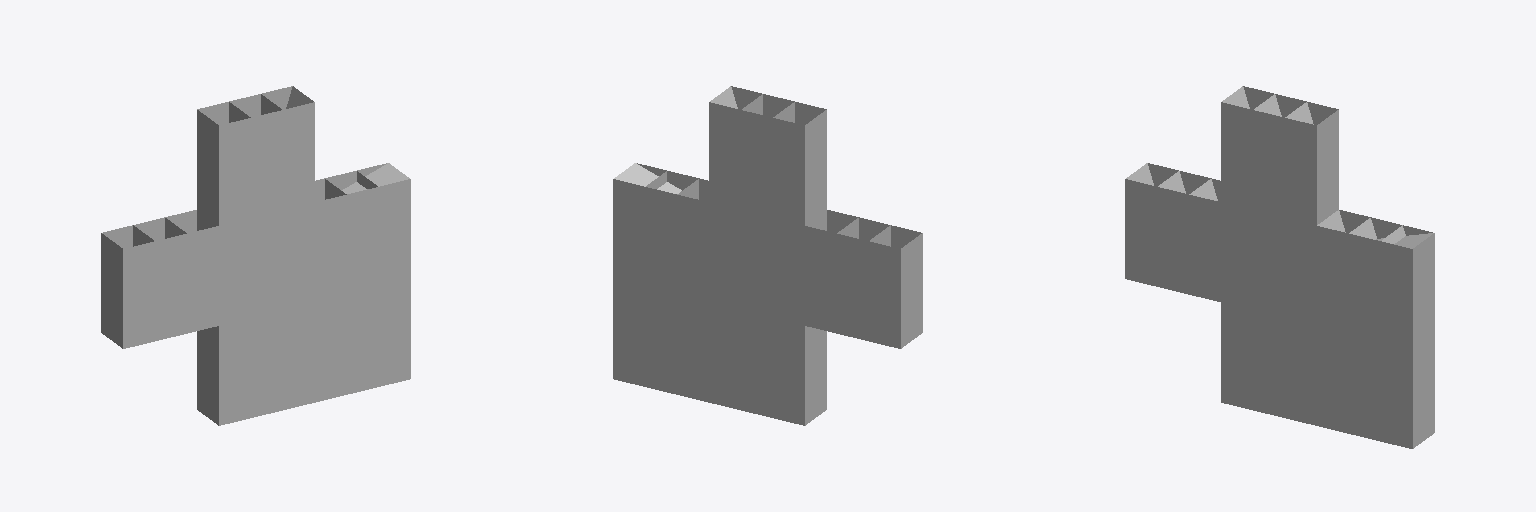
Rendered from 3d_Moonglade - Pool03.wlw.obj.
3 views of the same model, side by side, from view 1: azimuth 30°, elevation 25°; view 2: azimuth 150°, elevation 25°; view 3: azimuth 330°, elevation 25° (orthographic).
Size of the model in its own units: 75 by 75 by 10.